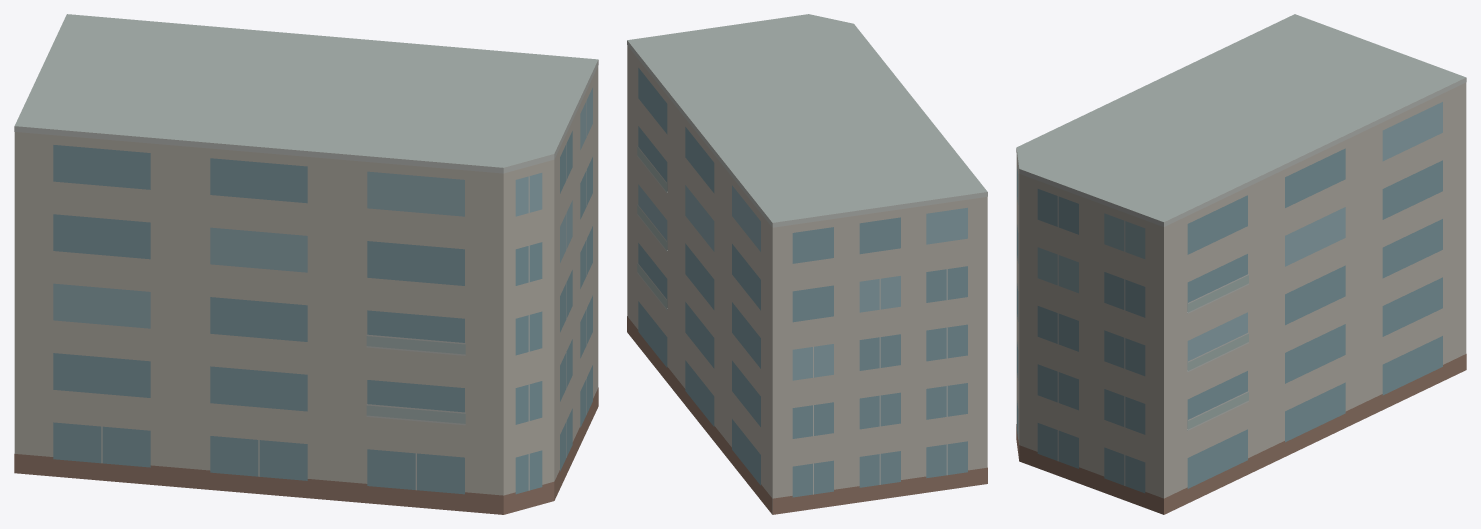
The model's file is survey-upis-32537842.glb.
3 renders of one model, left to right at view 1: azimuth 30°, elevation 25°; view 2: azimuth 150°, elevation 25°; view 3: azimuth 270°, elevation 25°, orthographic. The views are drawn at different scales.
Visible parts, largest first — view 1: survey-upis-32537842.tmp; view 2: survey-upis-32537842.tmp; view 3: survey-upis-32537842.tmp.
Part boxes in pixels (box(x1,y1,x2,y2)): survey-upis-32537842.tmp: box(14, 14, 598, 514); survey-upis-32537842.tmp: box(627, 14, 987, 514); survey-upis-32537842.tmp: box(1016, 14, 1466, 514).
Size of the model in its own units: 22.45 by 14.7 by 20.49.
